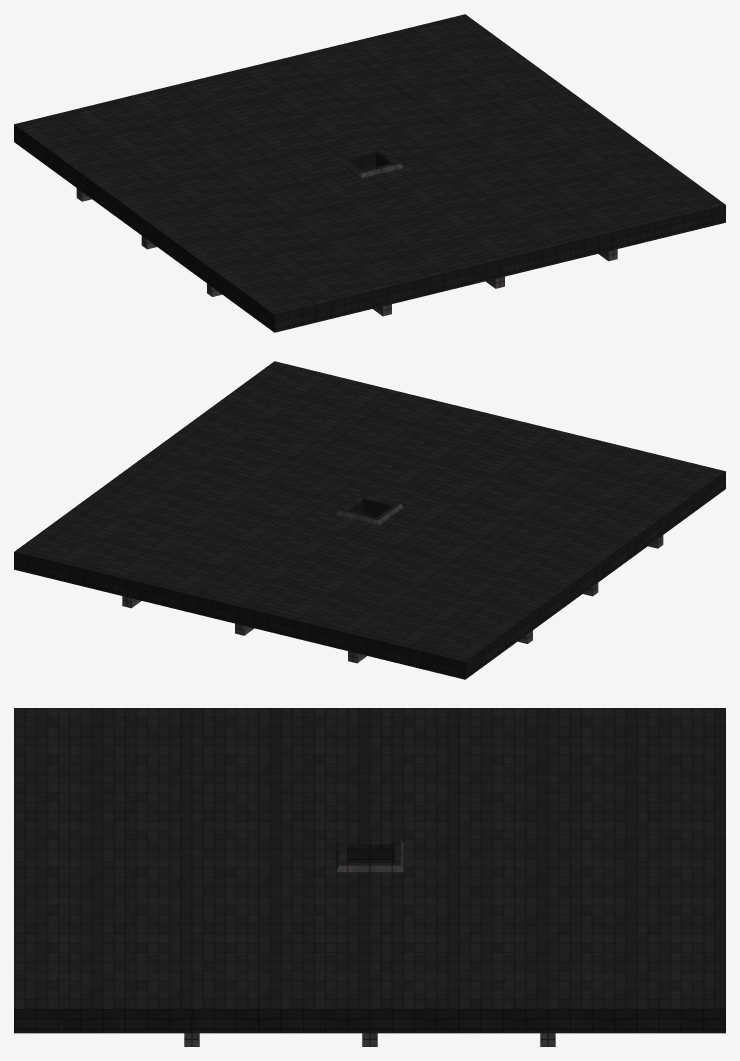
File: chamber_ceiling.glb
3 views of the same model, one above another, from view 1: azimuth 30°, elevation 25°; view 2: azimuth 150°, elevation 25°; view 3: azimuth 270°, elevation 25° (orthographic). The views are drawn at different scales.
Parts seen in each view (by area): view 1: chamber_ceiling_mesh; view 2: chamber_ceiling_mesh; view 3: chamber_ceiling_mesh.
Part boxes in pixels (<box>): chamber_ceiling_mesh: <box>14,14,725,332</box>; chamber_ceiling_mesh: <box>14,361,725,679</box>; chamber_ceiling_mesh: <box>14,708,725,1046</box>.
Size of the model in its own units: 16 by 1.09 by 16.
Materials: 2 (2 with a texture image).
